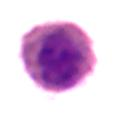lymphocyte: (17, 20, 98, 90), (19, 23, 21, 24)
